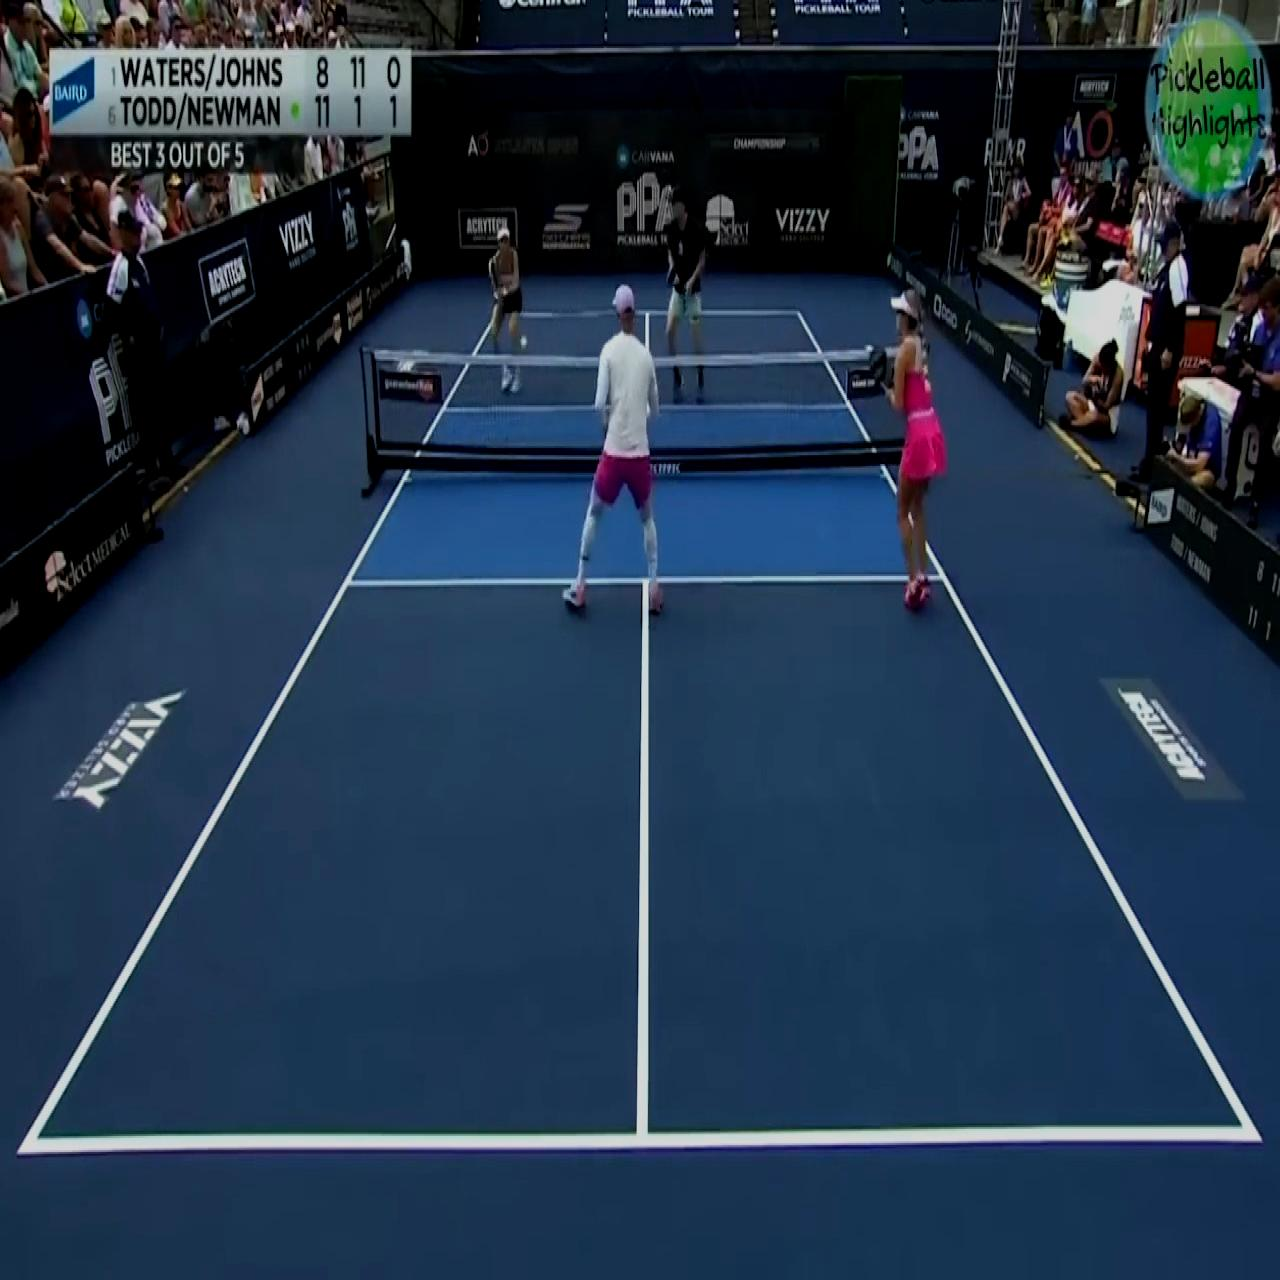Pickleball: (516, 327, 526, 349)
